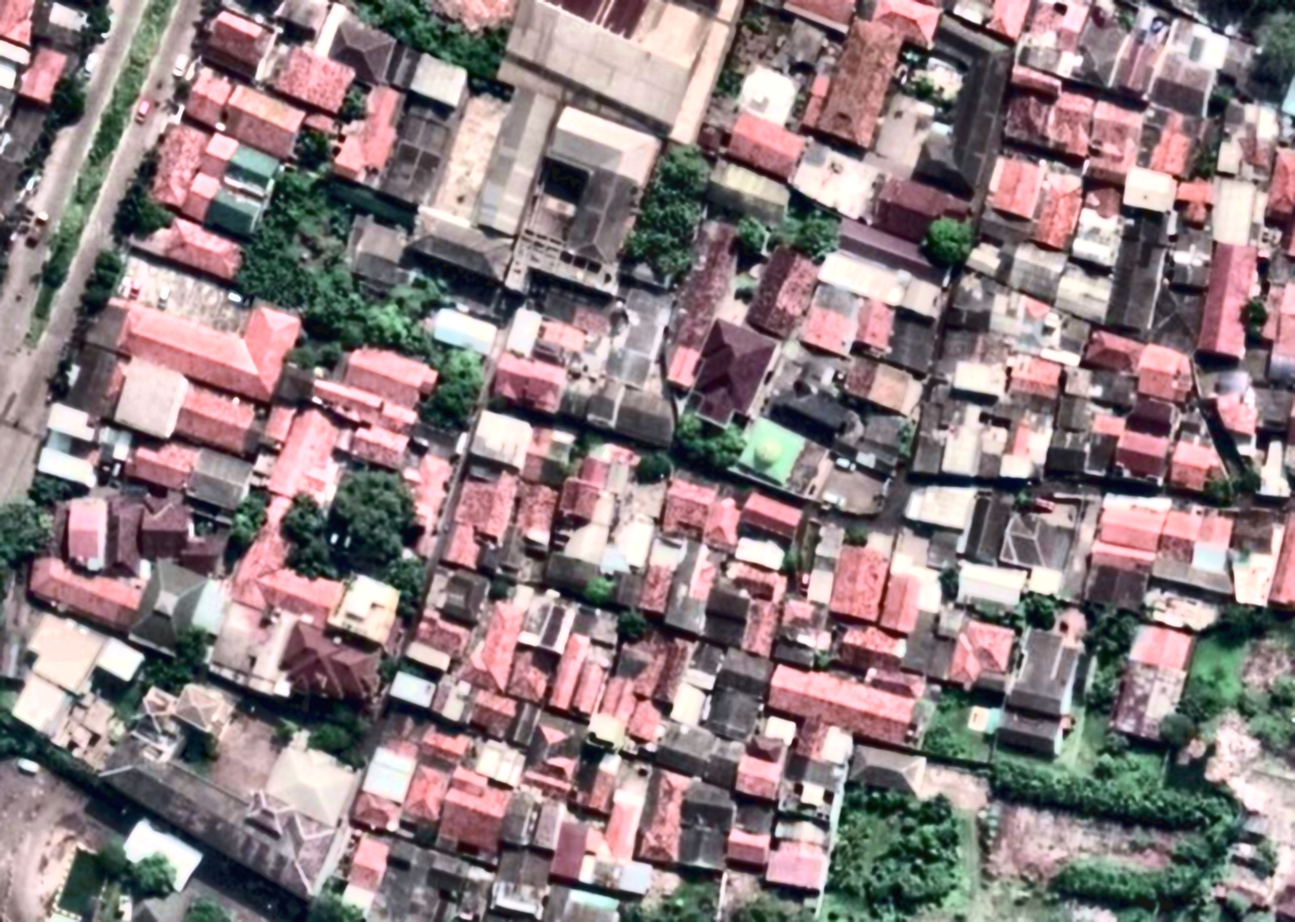building: (95, 728, 339, 907), (493, 0, 744, 147), (502, 103, 665, 318), (94, 259, 303, 409), (497, 0, 698, 135), (914, 16, 1017, 206), (646, 216, 753, 392), (347, 706, 474, 852), (221, 787, 349, 904), (468, 82, 563, 238), (763, 658, 921, 750), (910, 384, 1041, 492), (542, 354, 684, 452), (811, 12, 911, 151), (125, 555, 237, 669), (678, 315, 782, 436), (270, 617, 391, 720), (755, 336, 865, 446), (1076, 489, 1172, 615), (1204, 99, 1285, 247), (203, 593, 312, 702), (258, 728, 371, 833), (1107, 619, 1198, 747), (543, 103, 662, 193), (21, 552, 146, 635), (223, 492, 309, 612), (730, 413, 834, 506), (977, 282, 1086, 370), (265, 401, 352, 510), (131, 205, 247, 286), (367, 836, 475, 922), (1103, 206, 1174, 336), (866, 170, 973, 256), (441, 463, 522, 575), (1002, 624, 1090, 726), (329, 77, 409, 189), (742, 241, 827, 344), (405, 207, 517, 284), (831, 216, 952, 287), (602, 285, 681, 393), (786, 138, 884, 223), (431, 766, 517, 861), (1195, 239, 1261, 362), (1043, 392, 1128, 486), (338, 337, 440, 415), (170, 381, 268, 461), (17, 609, 106, 697), (214, 80, 308, 162), (770, 752, 848, 850), (305, 374, 418, 441), (830, 398, 920, 482), (249, 552, 346, 629), (109, 356, 191, 443), (320, 11, 408, 92), (700, 156, 795, 231), (611, 623, 694, 708), (268, 41, 357, 120), (117, 814, 205, 893), (1221, 504, 1287, 609), (120, 684, 202, 768), (657, 537, 724, 638), (721, 109, 808, 184), (671, 778, 738, 873), (143, 119, 211, 212), (326, 569, 406, 648), (1012, 0, 1091, 80), (194, 4, 276, 81), (388, 447, 458, 534), (466, 596, 528, 693), (945, 616, 1018, 698), (1067, 2, 1134, 91), (1109, 10, 1174, 101), (884, 539, 957, 619), (838, 352, 925, 419), (61, 341, 132, 423), (1080, 99, 1145, 188), (633, 767, 690, 866), (488, 349, 570, 417), (826, 541, 892, 625), (1146, 47, 1221, 120), (766, 375, 851, 439), (496, 785, 569, 859), (817, 249, 910, 307), (933, 325, 1011, 394), (333, 831, 396, 916), (167, 674, 242, 745), (910, 127, 985, 198), (182, 445, 257, 515), (487, 844, 554, 922), (1027, 168, 1088, 253), (343, 213, 410, 289), (122, 430, 199, 496), (735, 416, 806, 487), (609, 384, 683, 451), (632, 533, 689, 619), (732, 60, 803, 128), (1145, 280, 1209, 355), (957, 487, 1016, 568), (423, 562, 493, 628), (1139, 585, 1223, 640), (899, 609, 961, 683), (1001, 238, 1069, 305), (1050, 260, 1119, 326), (814, 462, 889, 522), (650, 716, 719, 781), (846, 742, 927, 797), (984, 152, 1047, 222), (524, 708, 589, 775), (655, 473, 719, 541), (489, 350, 557, 414), (1131, 342, 1199, 406), (697, 575, 755, 649), (997, 508, 1062, 574), (396, 761, 450, 838), (468, 408, 535, 470), (518, 422, 578, 491), (58, 691, 121, 756), (1148, 555, 1237, 601), (516, 590, 578, 656), (544, 630, 593, 713), (1095, 498, 1167, 554), (992, 707, 1065, 762), (1146, 109, 1202, 180), (8, 673, 71, 736), (200, 184, 265, 245), (428, 305, 500, 360), (763, 836, 830, 895), (407, 52, 472, 111), (943, 269, 1001, 335), (14, 42, 70, 110), (903, 480, 976, 532), (1209, 383, 1267, 448), (701, 684, 763, 744), (174, 518, 234, 580), (219, 141, 282, 200), (773, 17, 831, 81), (179, 66, 236, 131), (791, 714, 857, 770), (569, 748, 622, 817), (1069, 207, 1126, 271), (1043, 89, 1095, 159), (737, 489, 804, 543), (1001, 89, 1060, 150), (541, 291, 614, 340), (346, 419, 412, 473), (866, 0, 940, 48), (1164, 438, 1224, 497), (360, 744, 418, 805), (773, 594, 834, 652), (836, 623, 905, 674), (1080, 326, 1145, 380), (509, 480, 561, 547), (956, 561, 1027, 610), (567, 645, 614, 719), (795, 302, 857, 358), (502, 645, 558, 706), (411, 608, 474, 662), (1209, 177, 1258, 246), (105, 494, 146, 576), (1111, 427, 1171, 483), (64, 496, 108, 572), (267, 0, 335, 49), (529, 315, 589, 370), (30, 0, 92, 53), (876, 570, 925, 637), (714, 646, 775, 699), (540, 549, 602, 601), (463, 685, 520, 741), (1120, 165, 1180, 217), (139, 501, 192, 559), (547, 817, 592, 885), (1267, 498, 1294, 611), (1003, 351, 1064, 400), (34, 445, 101, 489), (974, 205, 1035, 253), (471, 737, 528, 788), (589, 853, 653, 898), (519, 752, 576, 802), (850, 297, 898, 356), (610, 509, 656, 570), (92, 635, 147, 686), (1266, 284, 1294, 384), (1155, 505, 1203, 563), (1214, 35, 1261, 94), (739, 595, 783, 658), (732, 752, 786, 803), (599, 798, 642, 861), (722, 558, 782, 603), (594, 672, 644, 726), (348, 789, 403, 838), (571, 601, 626, 649), (1166, 236, 1212, 293), (1182, 22, 1233, 73), (1082, 366, 1138, 412), (554, 475, 603, 527), (703, 576, 755, 624), (44, 401, 101, 444), (782, 0, 856, 33), (733, 530, 789, 573), (563, 517, 612, 566), (681, 638, 726, 691), (582, 375, 624, 431), (1248, 385, 1295, 435), (622, 696, 668, 747), (195, 130, 240, 182), (178, 170, 221, 224), (1006, 62, 1064, 102), (1172, 175, 1216, 227), (1127, 393, 1179, 437), (491, 525, 533, 579), (702, 737, 745, 789), (503, 305, 544, 359), (702, 496, 742, 551), (723, 826, 773, 870), (387, 669, 438, 711), (769, 634, 821, 675), (1266, 148, 1294, 223), (983, 0, 1030, 44), (668, 680, 710, 728), (1194, 509, 1237, 554), (301, 822, 339, 872), (436, 676, 475, 724), (1259, 440, 1290, 497), (0, 0, 36, 48), (137, 683, 179, 724), (404, 639, 453, 674), (575, 450, 614, 490), (1058, 0, 1088, 52), (960, 370, 1005, 403), (925, 528, 959, 571), (609, 569, 644, 609), (1082, 184, 1122, 219), (1215, 134, 1245, 177), (1245, 104, 1279, 141), (761, 714, 798, 746), (1027, 565, 1062, 597), (948, 0, 992, 25), (1265, 250, 1294, 286), (0, 38, 32, 67), (0, 60, 17, 89), (1193, 559, 1222, 571)
tree: (989, 759, 1226, 834), (318, 454, 433, 567), (1157, 798, 1269, 907), (356, 294, 442, 367), (304, 697, 383, 772), (293, 266, 371, 341), (280, 492, 339, 587), (422, 346, 488, 430), (1056, 858, 1169, 906), (1076, 600, 1143, 665), (784, 204, 847, 267), (221, 484, 282, 548), (642, 181, 708, 240), (659, 141, 719, 203), (258, 259, 319, 319), (378, 551, 437, 613), (1243, 680, 1295, 749), (122, 852, 180, 907), (894, 857, 960, 905), (78, 247, 128, 309), (700, 422, 756, 477), (1080, 653, 1127, 718), (39, 741, 102, 789), (896, 816, 962, 861), (3, 502, 48, 565), (1253, 12, 1293, 81), (864, 843, 905, 910), (1178, 667, 1228, 721), (403, 6, 454, 58), (915, 717, 965, 769), (646, 233, 696, 282), (458, 34, 505, 85), (86, 110, 129, 165), (127, 194, 176, 242), (394, 275, 451, 316), (927, 218, 975, 266), (293, 124, 341, 172), (25, 467, 73, 515), (818, 843, 865, 890), (629, 447, 676, 492), (232, 252, 276, 300), (1220, 604, 1275, 642), (1242, 840, 1289, 884), (831, 813, 876, 858), (610, 604, 655, 648), (91, 834, 135, 879), (620, 220, 665, 263), (730, 212, 774, 255), (305, 890, 366, 921), (27, 255, 72, 297), (141, 660, 196, 694), (9, 722, 52, 765), (434, 24, 475, 68), (174, 626, 213, 670), (367, 1, 417, 35), (112, 683, 148, 728), (578, 572, 618, 612), (274, 168, 316, 206), (80, 5, 117, 47), (54, 73, 87, 120), (265, 194, 304, 232), (1159, 709, 1199, 746), (916, 793, 956, 829), (933, 683, 970, 721), (338, 85, 375, 122), (868, 791, 924, 815), (712, 67, 748, 104), (270, 714, 306, 751), (291, 341, 341, 367), (1205, 472, 1240, 509), (1182, 891, 1223, 922), (767, 208, 798, 249), (675, 411, 703, 455), (1127, 823, 1162, 858), (324, 203, 357, 238), (187, 897, 233, 922), (377, 651, 418, 678), (1091, 748, 1123, 780), (572, 431, 605, 462), (186, 732, 217, 765), (730, 271, 761, 303), (253, 228, 285, 258), (743, 8, 773, 38), (1031, 594, 1057, 628), (938, 567, 967, 597), (1238, 467, 1267, 496), (1210, 82, 1238, 111), (1224, 889, 1252, 918), (339, 320, 367, 349), (487, 575, 514, 603), (845, 783, 871, 810), (778, 549, 804, 574), (845, 525, 870, 549), (1103, 732, 1132, 752), (1248, 300, 1265, 334), (900, 422, 916, 457), (1, 691, 16, 728), (1193, 152, 1215, 177), (1119, 906, 1153, 921), (906, 49, 926, 70), (843, 878, 863, 898), (918, 77, 937, 98), (1244, 911, 1277, 921), (2, 731, 17, 753), (1016, 492, 1029, 507), (986, 608, 999, 623)
